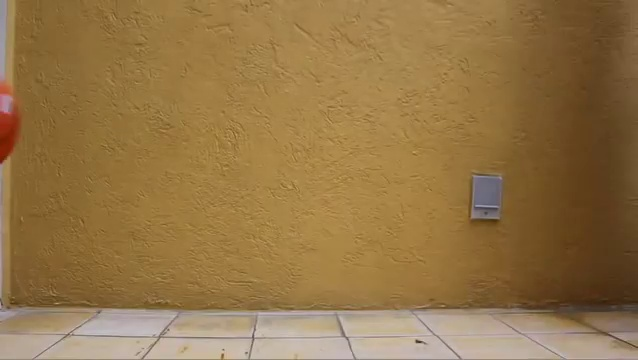ball: (1, 79, 20, 170)
